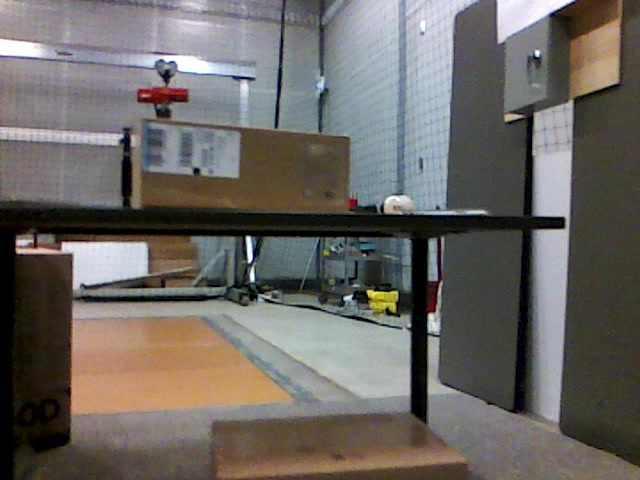box: (135, 119, 351, 213), (213, 414, 473, 479), (18, 248, 70, 456)
